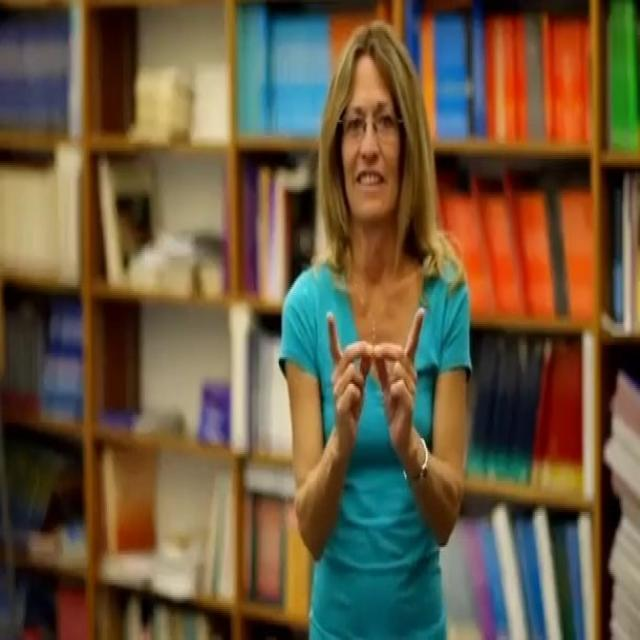sweet: (302, 301, 449, 504)
